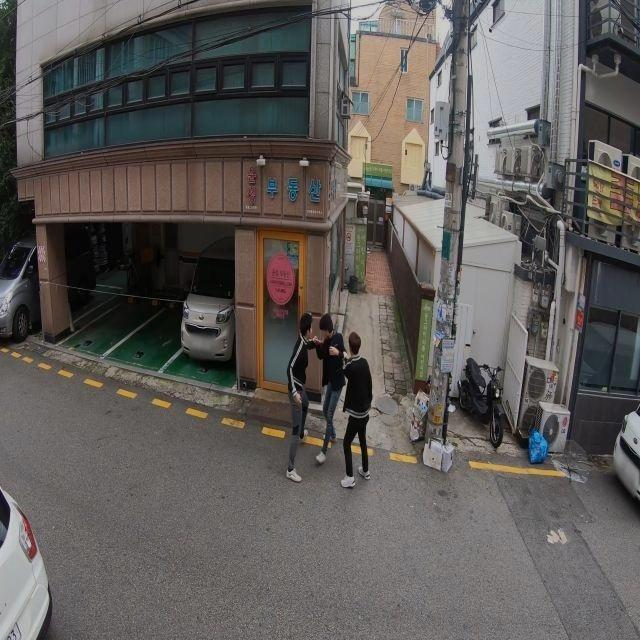fight: (285, 311, 372, 487)
